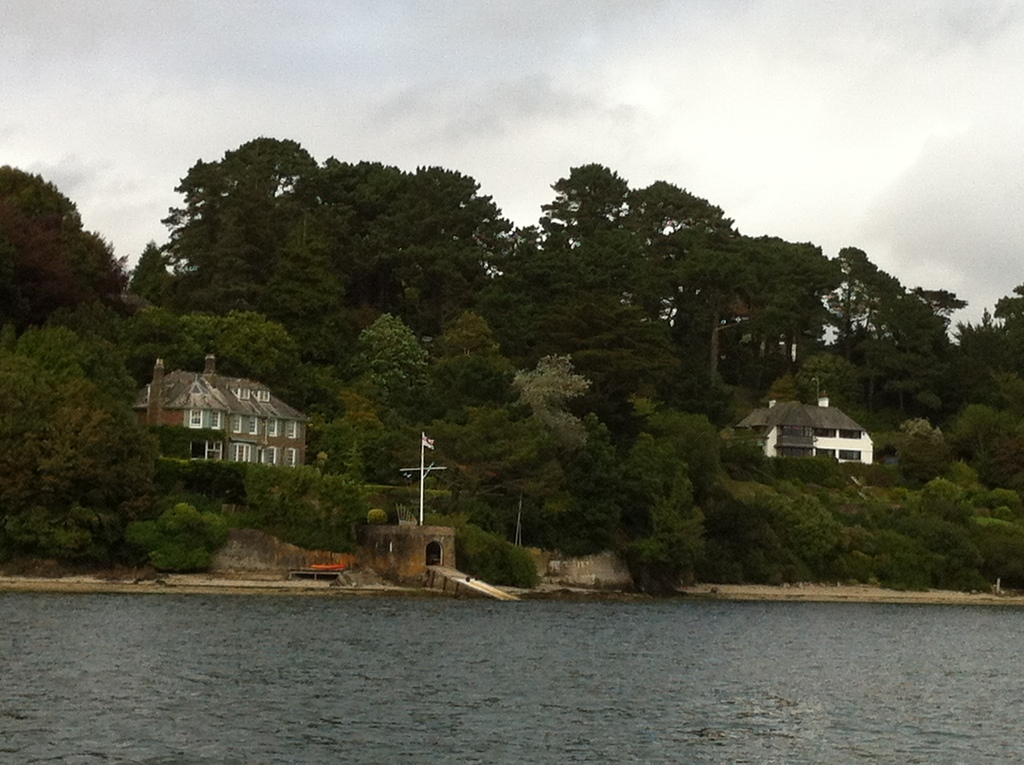Tree: (126, 134, 1023, 599), (3, 321, 147, 566)
